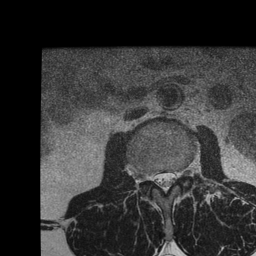CCS_normal: (161, 164, 169, 199)
LFS_normal: (177, 161, 185, 185)
LLS_normal: (169, 164, 177, 191)
RFS_normal: (143, 162, 152, 187)
RLS_normal: (153, 165, 161, 191)
